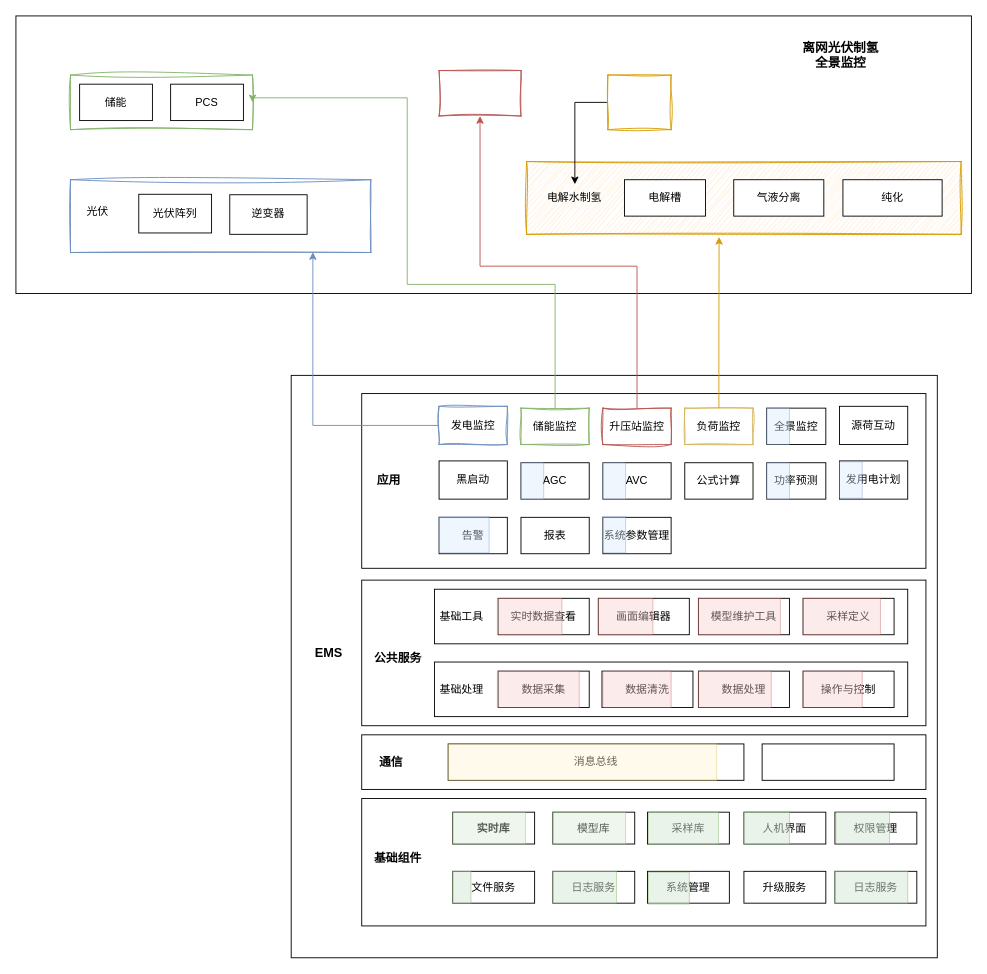
The diagram is 987 pixels wide and 974 high, and some of its shapes have lost their labels. Each missing label, with the centre of its shape:
升压: the point at 479,93
服务总线: the point at 827,761
降压: the point at 639,102
